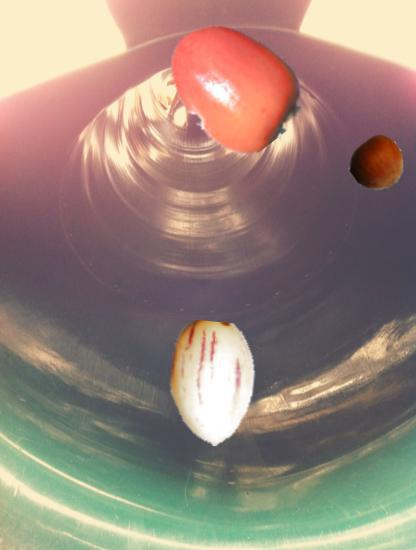Kaki: (164, 13, 305, 154)
Nut: (351, 137, 405, 191)
Pepino: (150, 322, 274, 446)
